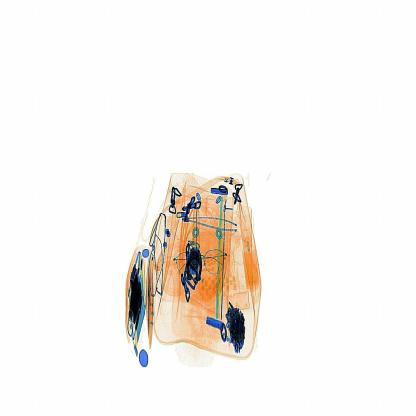pliers: (192, 204, 207, 278)
